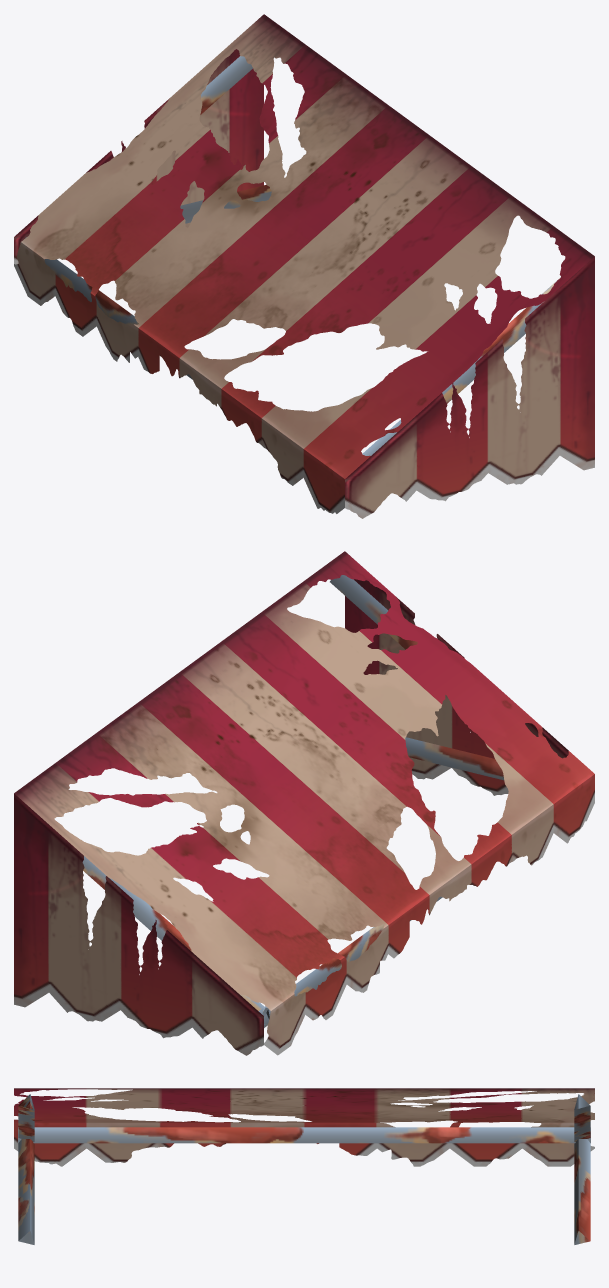
Rendered from awning02.fbx.
3 renders of one model, top to bottom at view 1: azimuth 30°, elevation 25°; view 2: azimuth 150°, elevation 25°; view 3: azimuth 270°, elevation 25°, orthographic. The views are drawn at different scales.
Visible parts, largest first — view 1: awning02; view 2: awning02; view 3: awning02.
Part boxes in pixels (left/top/right/bottom): awning02: left=14, top=14, right=594, bottom=518; awning02: left=14, top=551, right=594, bottom=1055; awning02: left=14, top=1088, right=594, bottom=1244.
Size of the model in its own units: 132 by 105 by 298.
